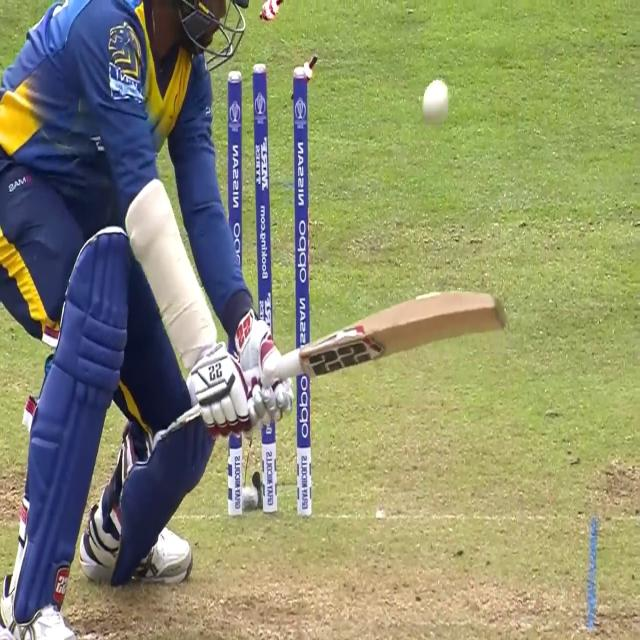ball: (418, 76, 454, 129)
